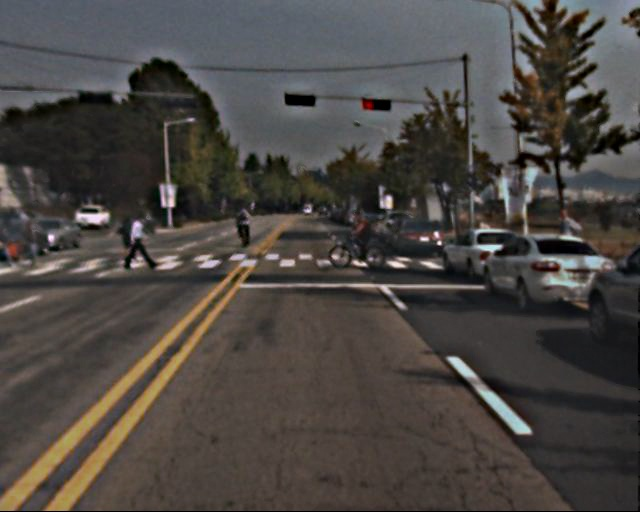person: (2, 211, 41, 261), (128, 208, 153, 268), (350, 207, 374, 266), (236, 204, 254, 248), (121, 215, 139, 258)
